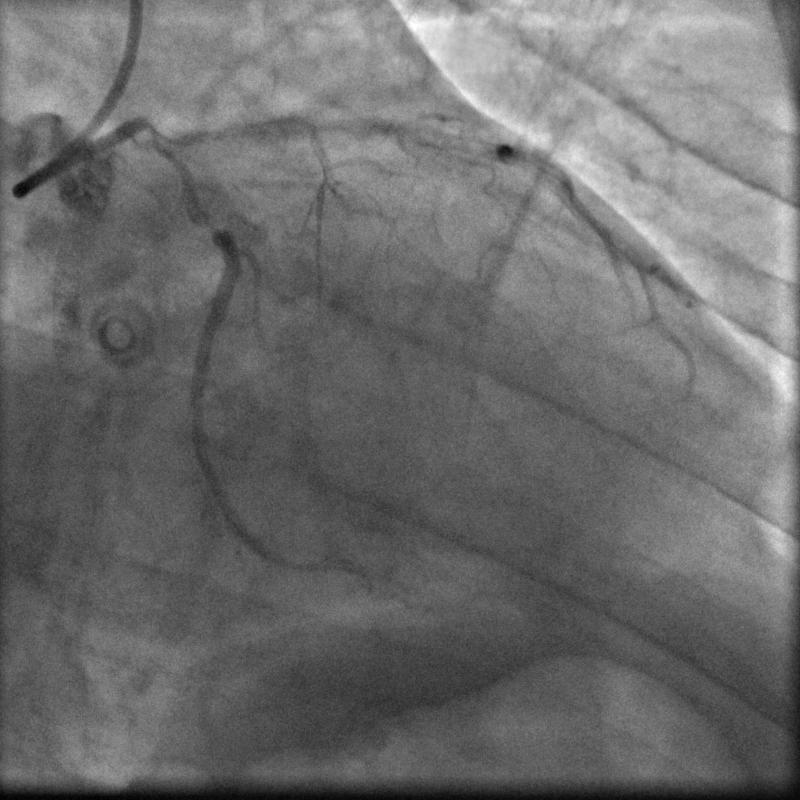Stenosis: (201, 218, 221, 231)
